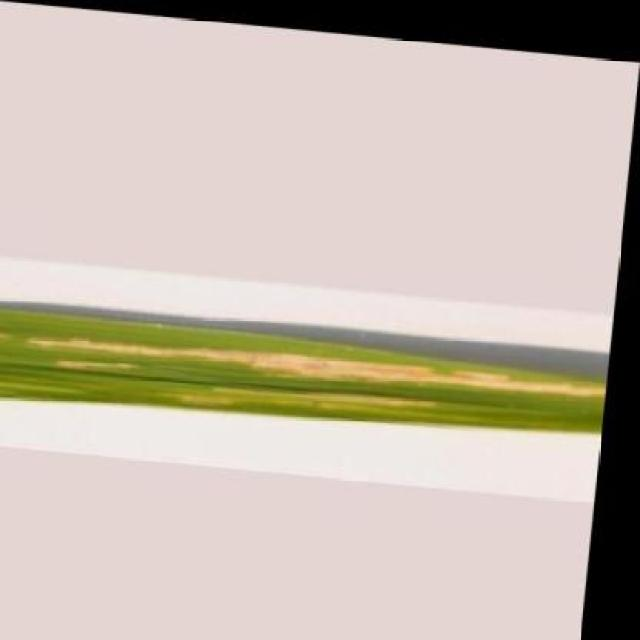Brown_Spot: (0, 290, 615, 447)
